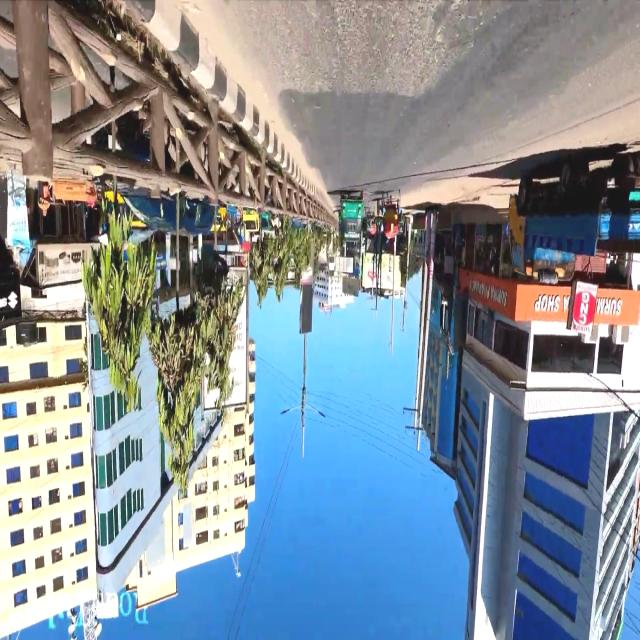black: (100, 169, 215, 238)
